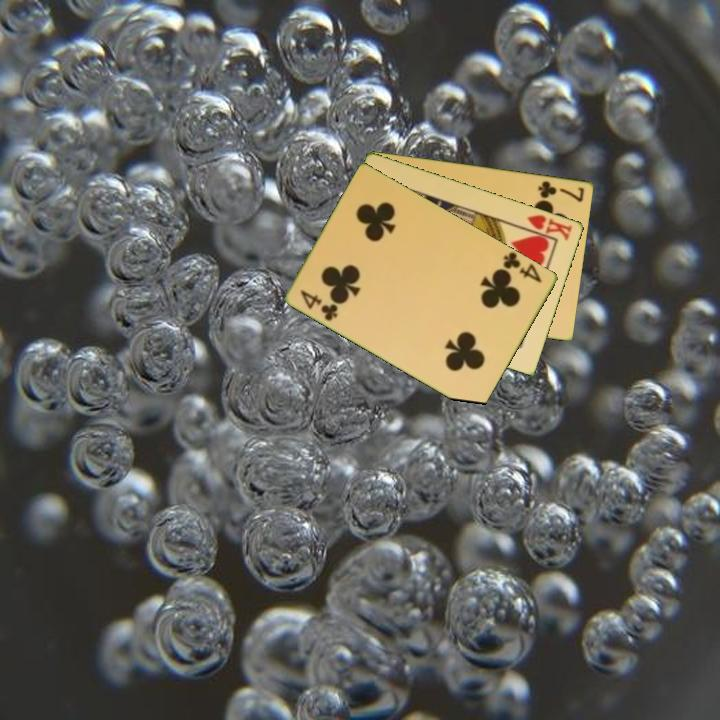4c: (500, 248, 545, 286), (297, 286, 341, 324)
7c: (535, 177, 587, 205)
Kh: (518, 211, 575, 244)
